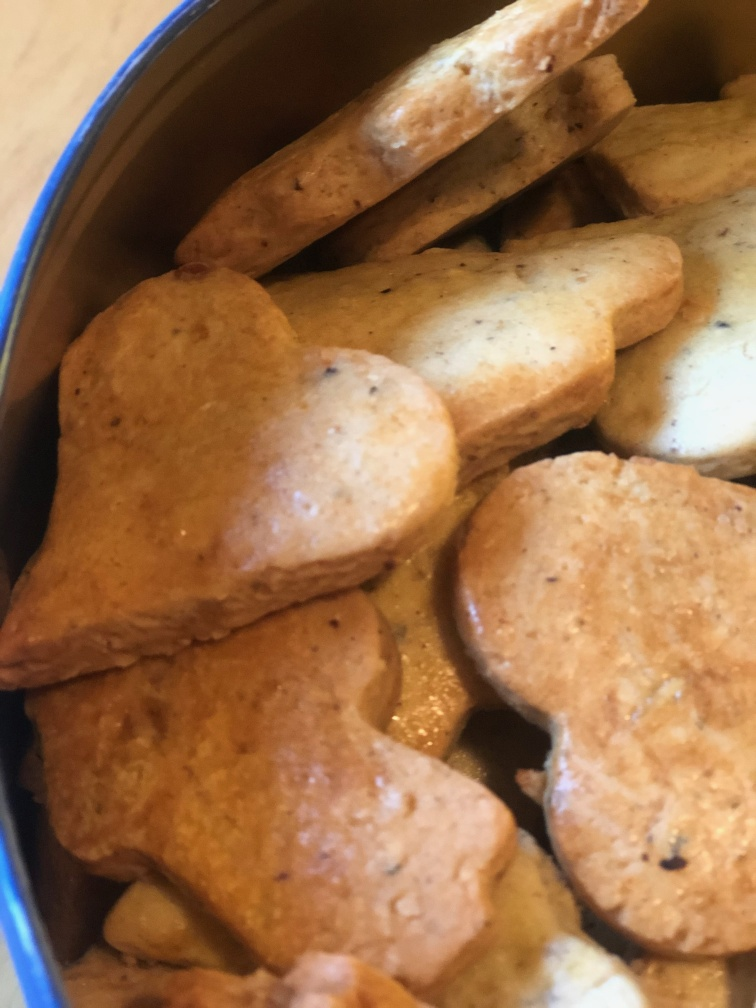angel: (260, 229, 684, 455)
heart: (2, 263, 455, 688), (455, 449, 755, 965)
santa claus: (26, 577, 519, 983)
